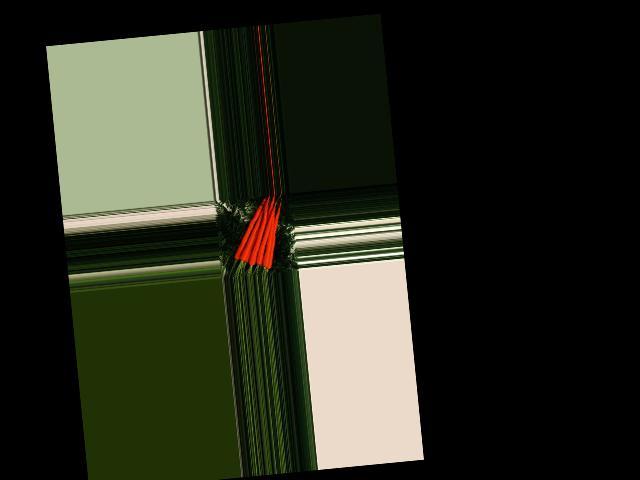carrot: (256, 197, 290, 271)
